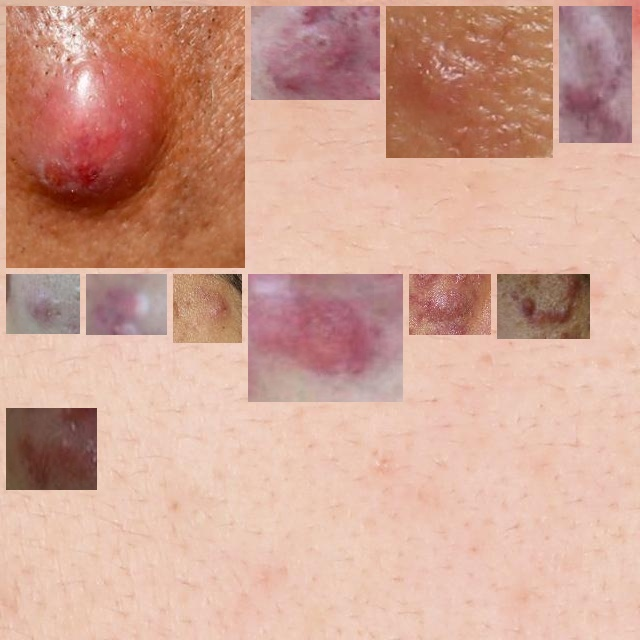nodule: (14, 14, 237, 260), (391, 14, 545, 150), (256, 282, 395, 394), (259, 14, 372, 92), (567, 14, 624, 135), (14, 416, 89, 482), (505, 282, 582, 331), (417, 282, 483, 327), (94, 282, 159, 327), (181, 282, 234, 335), (14, 282, 72, 326)
